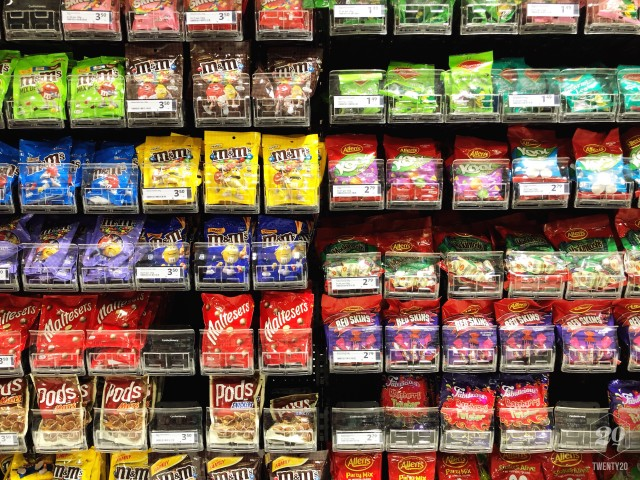Evian: (200, 293, 255, 374), (37, 294, 86, 370)
Malteasers: (258, 292, 313, 371), (200, 294, 254, 371), (39, 298, 92, 372)
